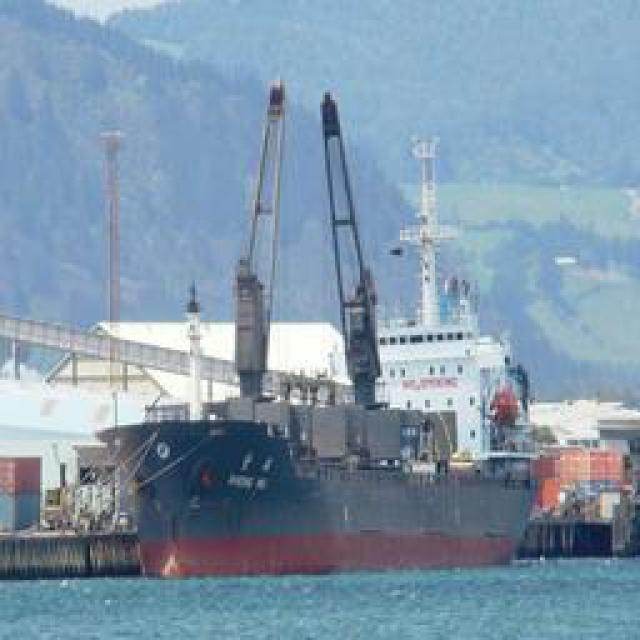Ship: (102, 191, 558, 586)
